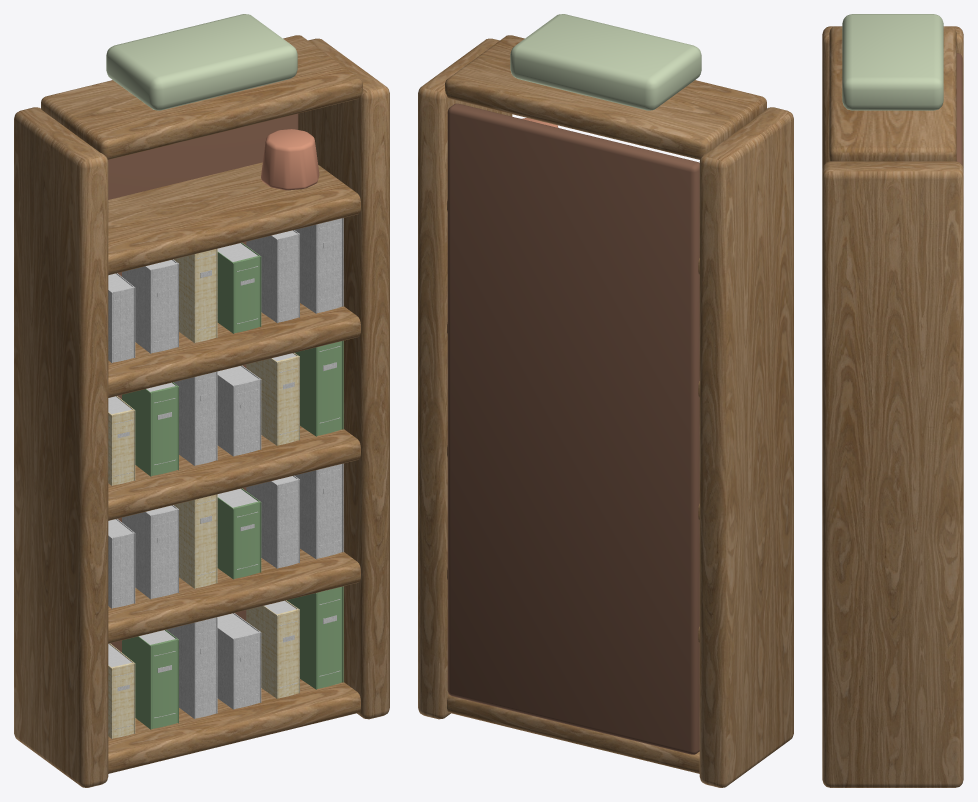
File: bookshelf.glb
The picture shows the model from 3 angles, left to right: view 1: azimuth 30°, elevation 25°; view 2: azimuth 150°, elevation 25°; view 3: azimuth 270°, elevation 25°; orthographic projection.
Parts seen in each view (by area): view 1: catalog_surface_RealismUV; view 2: catalog_surface_RealismUV; view 3: catalog_surface_RealismUV.
Part boxes in pixels (<box>): catalog_surface_RealismUV: <box>14,14,389,787</box>; catalog_surface_RealismUV: <box>418,14,793,787</box>; catalog_surface_RealismUV: <box>822,14,963,787</box>.
Bounding box in the file's own units: 0.872 × 1.83 × 0.35.
8 materials, 4 textured.
